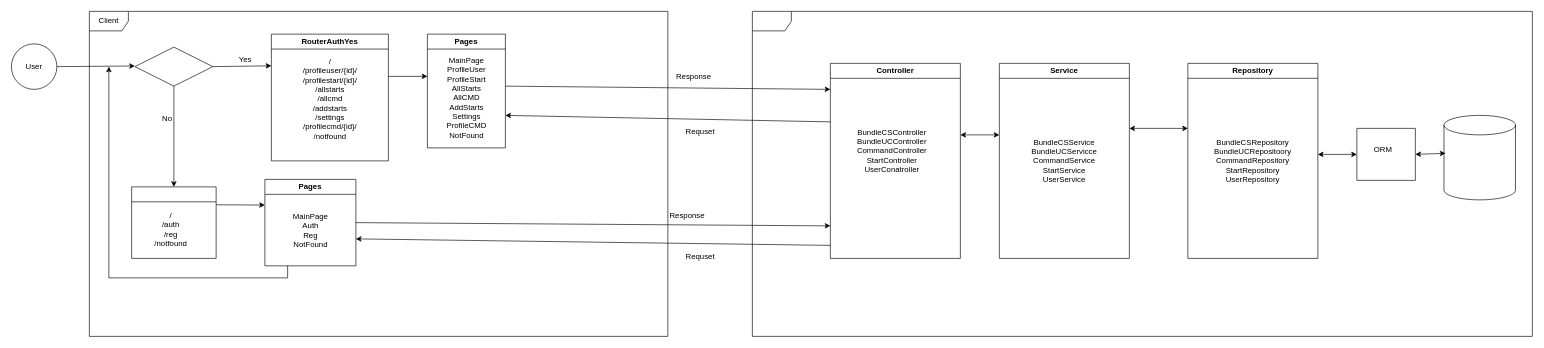
This 1544x348 diagram has some shape labels left out. The shapes that lost their labels are listed below. From the top down, each one's box as (x1, y1, x2, y2) in pixels, then its label:
(134, 46, 213, 86): isAuth?
(752, 11, 1532, 336): Server
(1443, 115, 1515, 200): DataBase
(131, 186, 216, 258): RouterAuthNo
